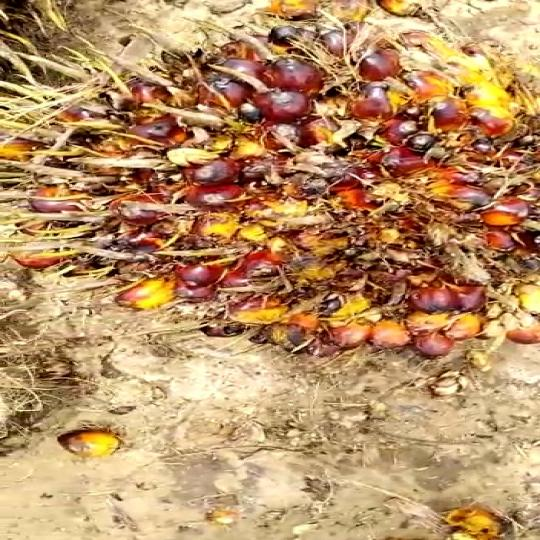masak: (28, 10, 540, 360)
